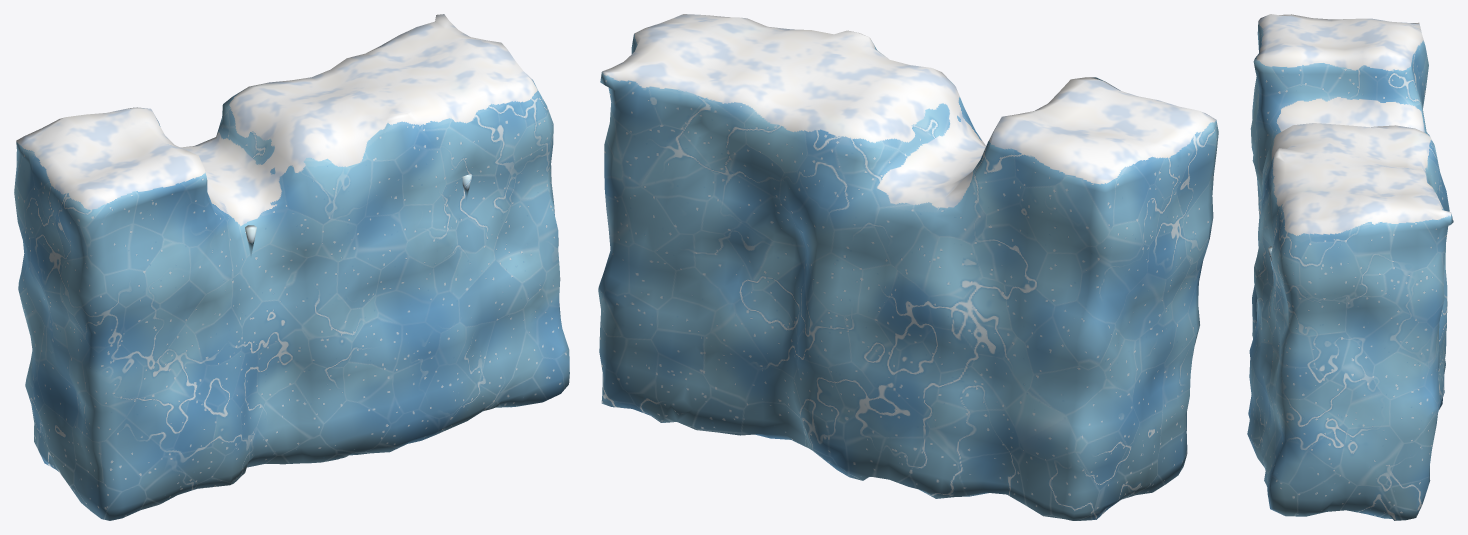
Rendered from ice_wall_b.glb.
3 views of the same model, side by side, from view 1: azimuth 30°, elevation 25°; view 2: azimuth 150°, elevation 25°; view 3: azimuth 270°, elevation 25° (orthographic). The views are drawn at different scales.
Parts seen in each view (by area): view 1: IceWall; view 2: IceWall; view 3: IceWall.
Part boxes in pixels (box(x1,y1,x2,y2)): IceWall: box(14, 14, 569, 520); IceWall: box(598, 14, 1218, 520); IceWall: box(1247, 14, 1453, 520).
Size of the model in its own units: 3.96 by 2.64 by 1.54.
Materials: 1 (1 with a texture image).
